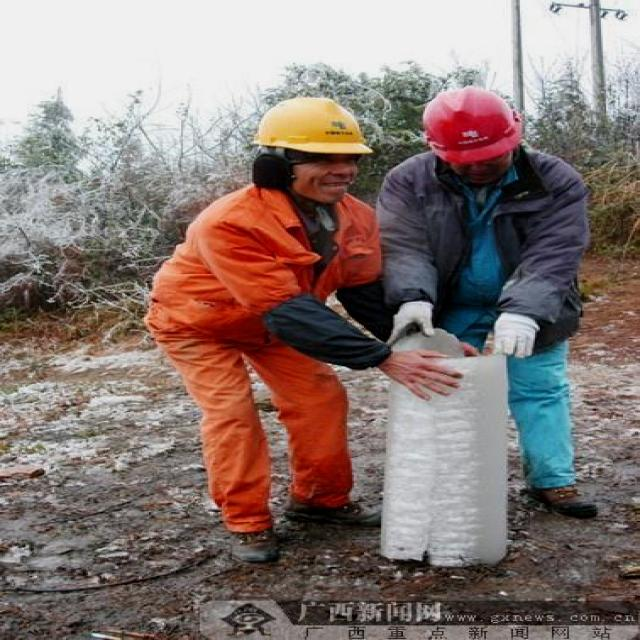face_nomask: (293, 146, 355, 203)
hand_glove: (481, 307, 545, 363), (388, 301, 442, 348)
hand_noglove: (374, 349, 471, 404)
head_helmet: (420, 82, 533, 161), (251, 95, 374, 154)
person: (140, 101, 382, 541), (384, 97, 610, 532)
shoes: (278, 491, 387, 534), (521, 476, 605, 528), (220, 508, 290, 567)
